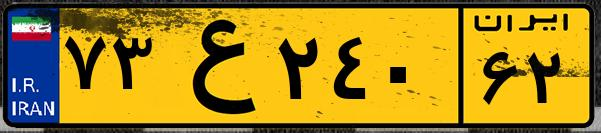0: (385, 28, 445, 110)
2: (270, 28, 330, 110), (525, 38, 570, 115)
3: (110, 28, 158, 98)
4: (330, 28, 385, 110)
6: (475, 38, 525, 113)
7: (57, 26, 110, 100)
ع: (158, 12, 270, 120)
